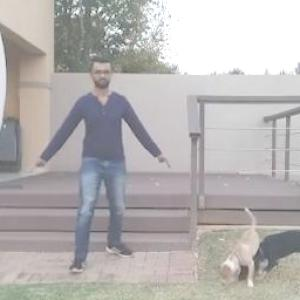land: (8, 60, 169, 280)
